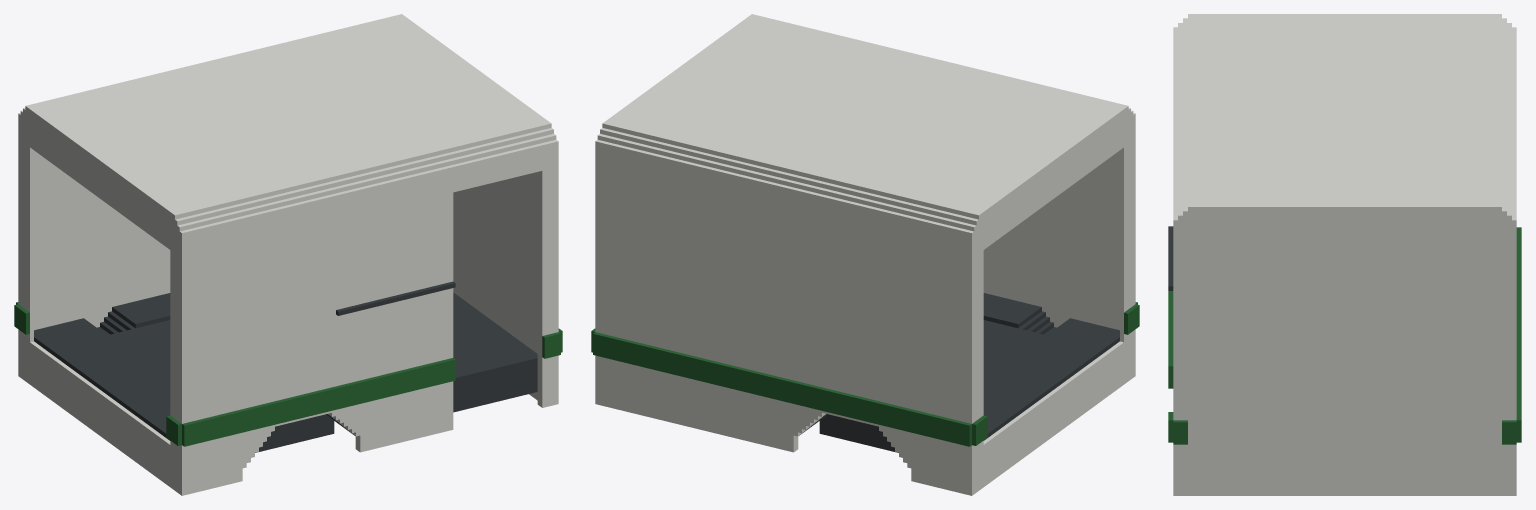
The model's file is animal_control_van_box.glb.
3 views of the same model, side by side, from view 1: azimuth 30°, elevation 25°; view 2: azimuth 150°, elevation 25°; view 3: azimuth 270°, elevation 25° (orthographic). The views are drawn at different scales.
Parts seen in each view (by area): view 1: body:compound; view 2: body:compound; view 3: body:compound.
Boxes of the visible parts, bbox=[...] form: body:compound: bbox=[14, 14, 562, 495]; body:compound: bbox=[591, 14, 1139, 495]; body:compound: bbox=[1168, 14, 1521, 495].
Size of the model in its own units: 2.97 by 2.03 by 2.25.
